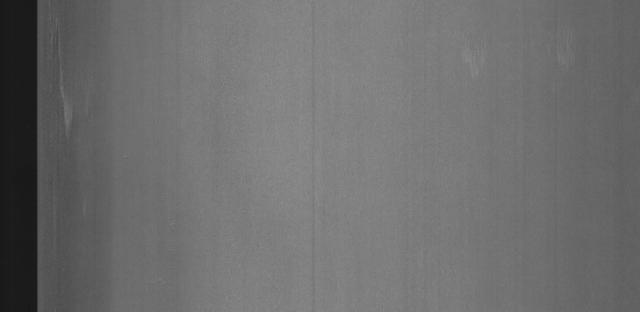silk_spot: (45, 37, 102, 148)
